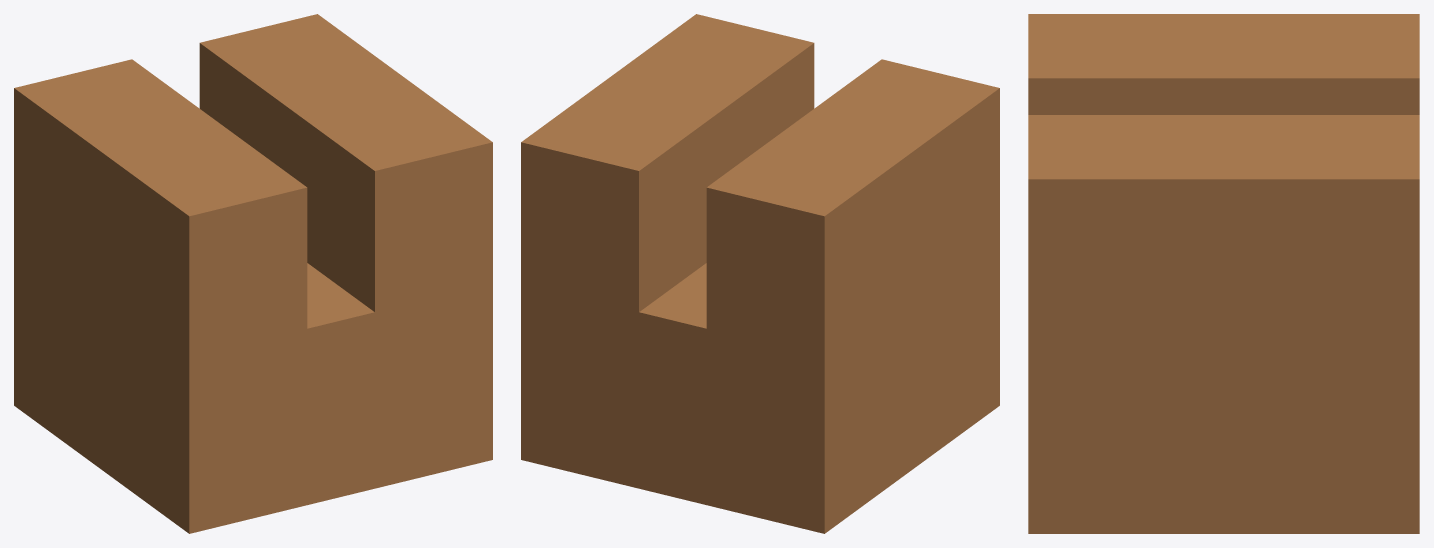
File: Thick_Straight_Model.fbx
The picture shows the model from 3 angles, left to right: view 1: azimuth 30°, elevation 25°; view 2: azimuth 150°, elevation 25°; view 3: azimuth 270°, elevation 25°; orthographic projection. The views are drawn at different scales.
Parts seen in each view (by area): view 1: Cube; view 2: Cube; view 3: Cube.
Boxes of the visible parts, left/top/right/bottom form: Cube: left=14, top=14, right=492, bottom=533; Cube: left=521, top=14, right=999, bottom=533; Cube: left=1028, top=14, right=1419, bottom=533.
Bounding box in the file's own units: 100 × 100 × 100.
